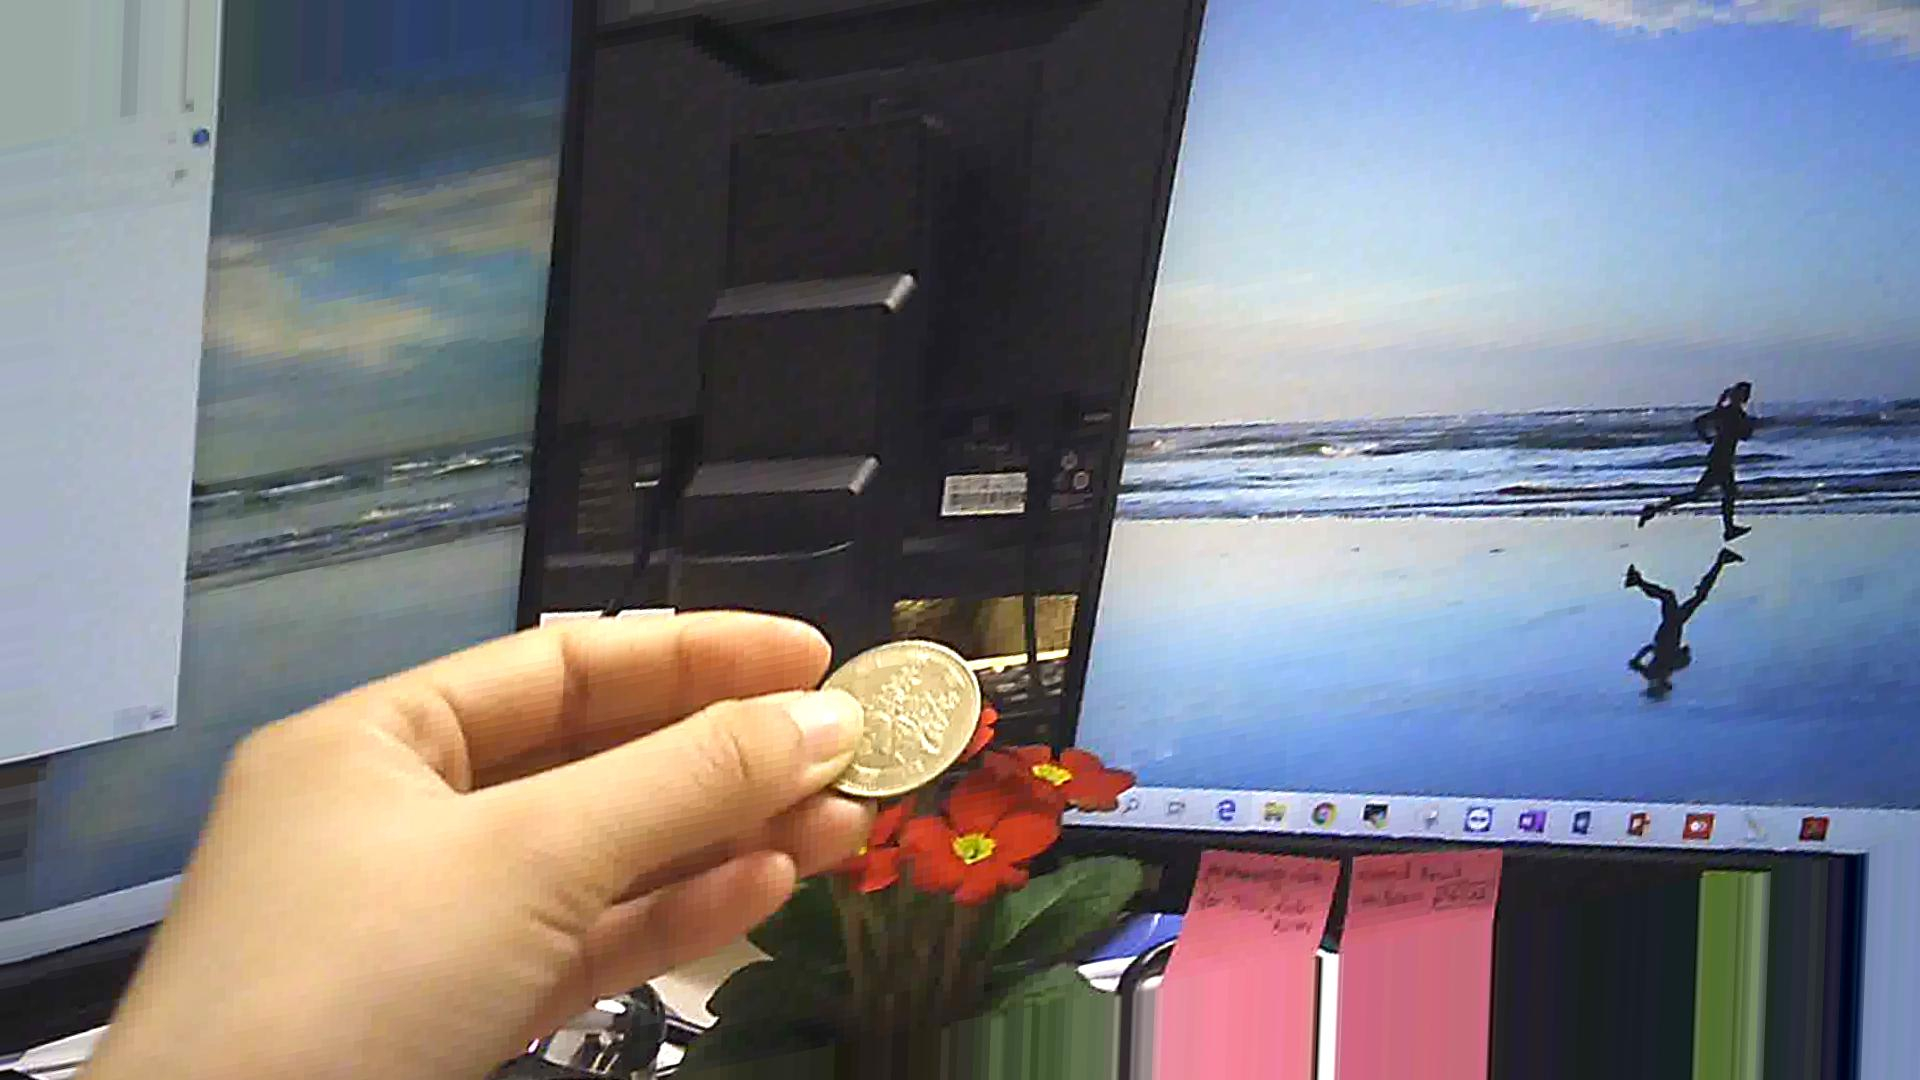500 Yen: (791, 637, 989, 806)
